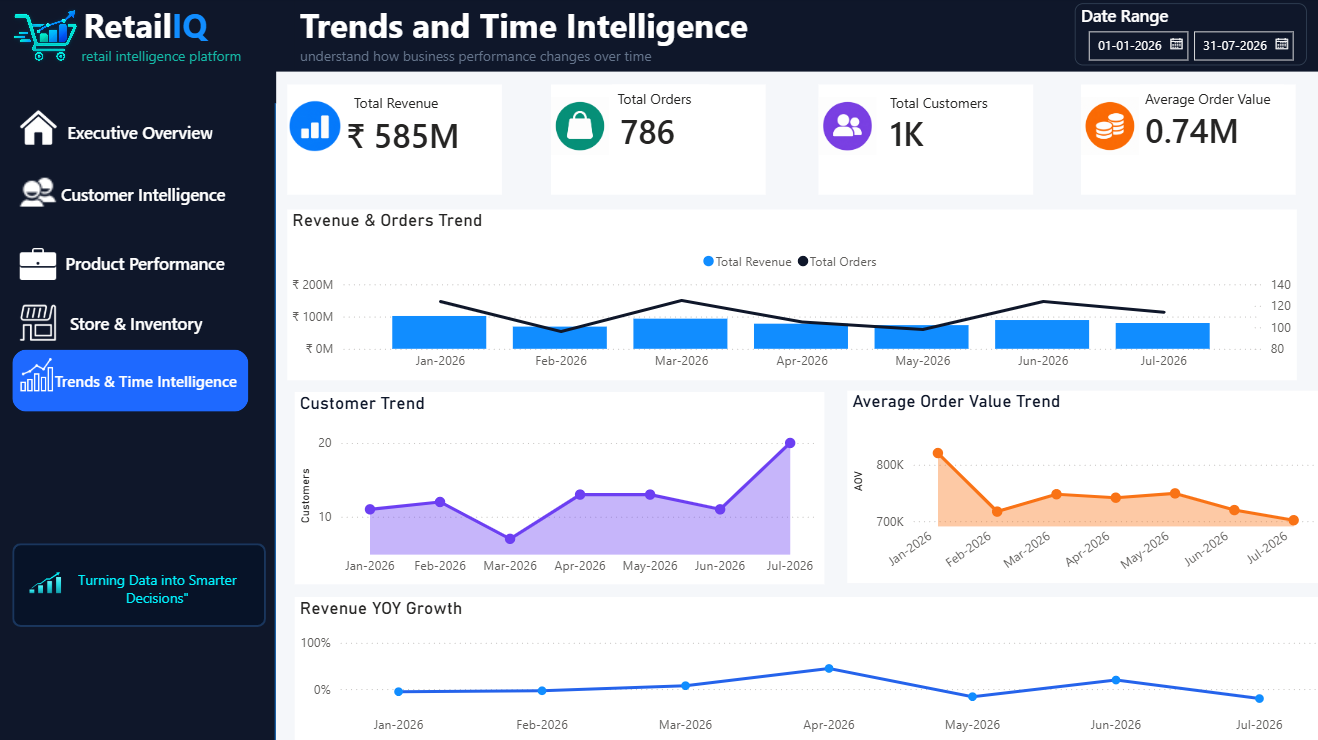

This screenshot's page, from the dashboard's own definition file:
{"tool":"powerbi","page":{"name":"Trends And Time Intelligence","canvas":[1280,720],"ordinal":4},"visuals":[{"type":"shape","box":[0,0,270,720],"z":0},{"type":"shape","box":[15.7,527.2,244.9,80.8],"z":1000},{"type":"image","box":[22,529,50,75],"z":2000},{"type":"shape","box":[270,0,1010,72],"z":3000},{"type":"actionButton","box":[15,100,220,60],"z":4000},{"type":"image","box":[20,109,40,35],"z":5000},{"type":"actionButton","box":[14.7,161,220,60],"z":6000},{"type":"image","box":[20,170,40,35],"z":7000},{"type":"actionButton","box":[19.6,227,220,60],"z":8000},{"type":"image","box":[20,240,40,35],"z":9000},{"type":"actionButton","box":[19.6,285,220,60],"z":10000},{"type":"image","box":[20,297,40,35],"z":11000},{"type":"actionButton","box":[16,340,228,60],"z":12000},{"type":"image","box":[20,346,40,35],"z":13000},{"type":"slicer","title":"Date Range","fields":{"Values":["DateTable.Date"]},"box":[1040.6,6.1,224,60],"z":14000},{"type":"textbox","box":[0,0,270,102],"z":15000},{"type":"image","box":[0,1.2,99,72],"z":16000},{"type":"textbox","box":[288.5,0,504.2,71.5],"z":17000},{"type":"cardVisual","fields":{"Data":["RetailIQ_Measures.Total Revenue"]},"box":[281.3,84.6,207.4,106.1],"z":18000},{"type":"textbox","box":[340,88,103.7,29.8],"z":19000},{"type":"image","box":[280,92,56,65],"z":20000},{"type":"cardVisual","fields":{"Data":["RetailIQ_Measures.Total Orders"]},"box":[535.6,84,207.4,106.1],"z":21000},{"type":"cardVisual","fields":{"Data":["RetailIQ_Measures.Total Customers"]},"box":[793.3,84,207.4,106.1],"z":22000},{"type":"cardVisual","fields":{"Data":["RetailIQ_Measures.Average Orders Value"]},"box":[1047.8,84,207.4,106.1],"z":23000},{"type":"image","box":[535.6,92.2,56,65],"z":24000},{"type":"image","box":[793.3,92,56,65],"z":25000},{"type":"image","box":[1047.8,92,56,65],"z":26000},{"type":"textbox","box":[595,85,93.3,28],"z":27000},{"type":"textbox","box":[858,88,120,30],"z":28000},{"type":"textbox","box":[1104,85,139,30],"z":29000},{"type":"lineClusteredColumnComboChart","title":"Revenue & Orders Trend","fields":{"Category":["DateTable.Year Month"],"Y":["RetailIQ_Measures.Total Revenue"],"Y2":["RetailIQ_Measures.Total Orders"]},"box":[281.1,205.6,974.4,164.4],"z":30000},{"type":"lineChart","title":"Customer Trend ","fields":{"Category":["DateTable.Year Month"],"Y":["RetailIQ_Measures.Registered customer"]},"box":[288.5,381.4,511.4,186],"z":31000},{"type":"lineChart","title":"Average Order Value Trend","fields":{"Category":["DateTable.Year Month"],"Y":["RetailIQ_Measures.Average Orders Value"]},"box":[821.3,380.3,458.9,186],"z":32000},{"type":"lineChart","title":"Revenue YOY Growth ","fields":{"Category":["DateTable.Year Month"],"Y":["RetailIQ_Measures.Revenue YOY Growth %"]},"box":[288.3,579.1,991.7,141.2],"z":33000}]}

Visuals, with their boxes on the page's 1280x720 design canvas (x1, y1, x2, y2). These are canvas units, not pixel positions in the 1318x740 screenshot, which may show the page scaled, cropped or inside an application window:
shape: 0/0/270/720
shape: 16/527/261/608
image: 22/529/72/604
shape: 270/0/1280/72
actionButton: 15/100/235/160
image: 20/109/60/144
actionButton: 15/161/235/221
image: 20/170/60/205
actionButton: 20/227/240/287
image: 20/240/60/275
actionButton: 20/285/240/345
image: 20/297/60/332
actionButton: 16/340/244/400
image: 20/346/60/381
"Date Range" slicer: 1041/6/1265/66
textbox: 0/0/270/102
image: 0/1/99/73
textbox: 288/0/793/72
cardVisual - RetailIQ_Measures.Total Revenue: 281/85/489/191
textbox: 340/88/444/118
image: 280/92/336/157
cardVisual - RetailIQ_Measures.Total Orders: 536/84/743/190
cardVisual - RetailIQ_Measures.Total Customers: 793/84/1001/190
cardVisual - RetailIQ_Measures.Average Orders Value: 1048/84/1255/190
image: 536/92/592/157
image: 793/92/849/157
image: 1048/92/1104/157
textbox: 595/85/688/113
textbox: 858/88/978/118
textbox: 1104/85/1243/115
"Revenue & Orders Trend" lineClusteredColumnComboChart: 281/206/1256/370
"Customer Trend " lineChart: 288/381/800/567
"Average Order Value Trend" lineChart: 821/380/1280/566
"Revenue YOY Growth " lineChart: 288/579/1280/720
